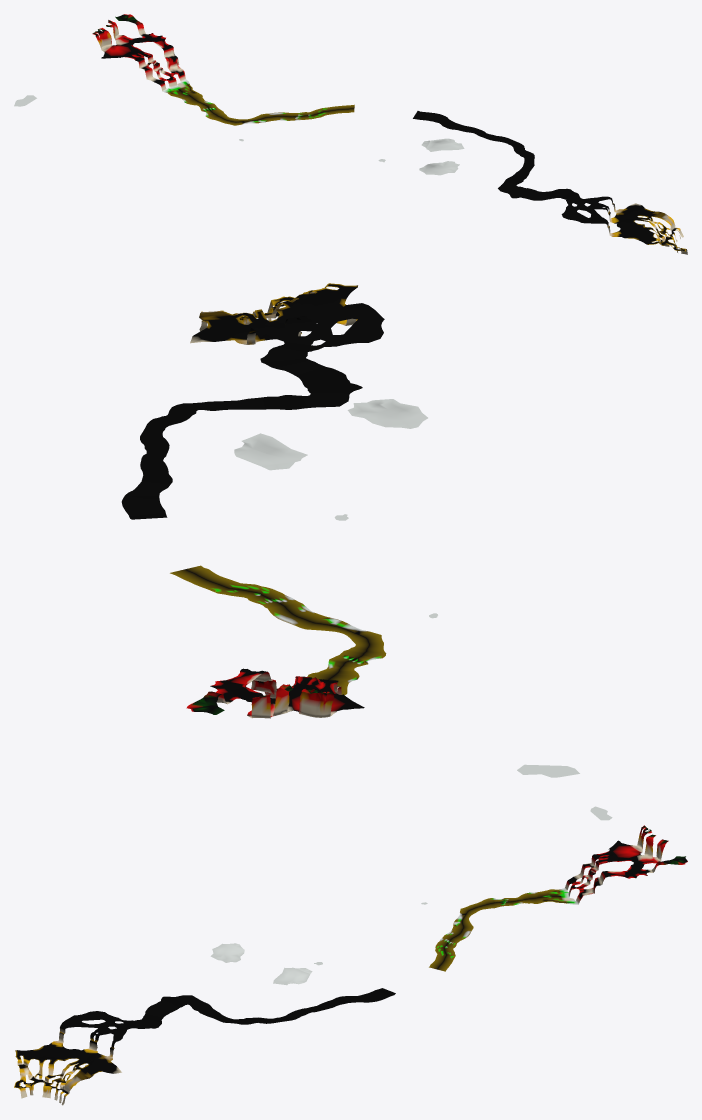
3 renders of one model, top to bottom at view 1: azimuth 30°, elevation 25°; view 2: azimuth 150°, elevation 25°; view 3: azimuth 270°, elevation 25°, orthographic. The views are drawn at different scales.
Parts seen in each view (by area): view 1: G:\FFXIV-MapTools\exports\n4f5\bg\ex3\01_nvt_n4\fld\n4f5\bgp (×4); view 2: G:\FFXIV-MapTools\exports\n4f5\bg\ex3\01_nvt_n4\fld\n4f5\bgp (×4); view 3: G:\FFXIV-MapTools\exports\n4f5\bg\ex3\01_nvt_n4\fld\n4f5\bgp (×4).
Part boxes in pixels (x1,y1,x2,y2): G:\FFXIV-MapTools\exports\n4f5\bg\ex3\01_nvt_n4\fld\n4f5\bgp (×4): [92, 14, 687, 254]; G:\FFXIV-MapTools\exports\n4f5\bg\ex3\01_nvt_n4\fld\n4f5\bgp (×4): [121, 283, 437, 718]; G:\FFXIV-MapTools\exports\n4f5\bg\ex3\01_nvt_n4\fld\n4f5\bgp (×4): [14, 825, 687, 1105].
Bounding box in the file's own units: 1071 × 222 × 1310.
